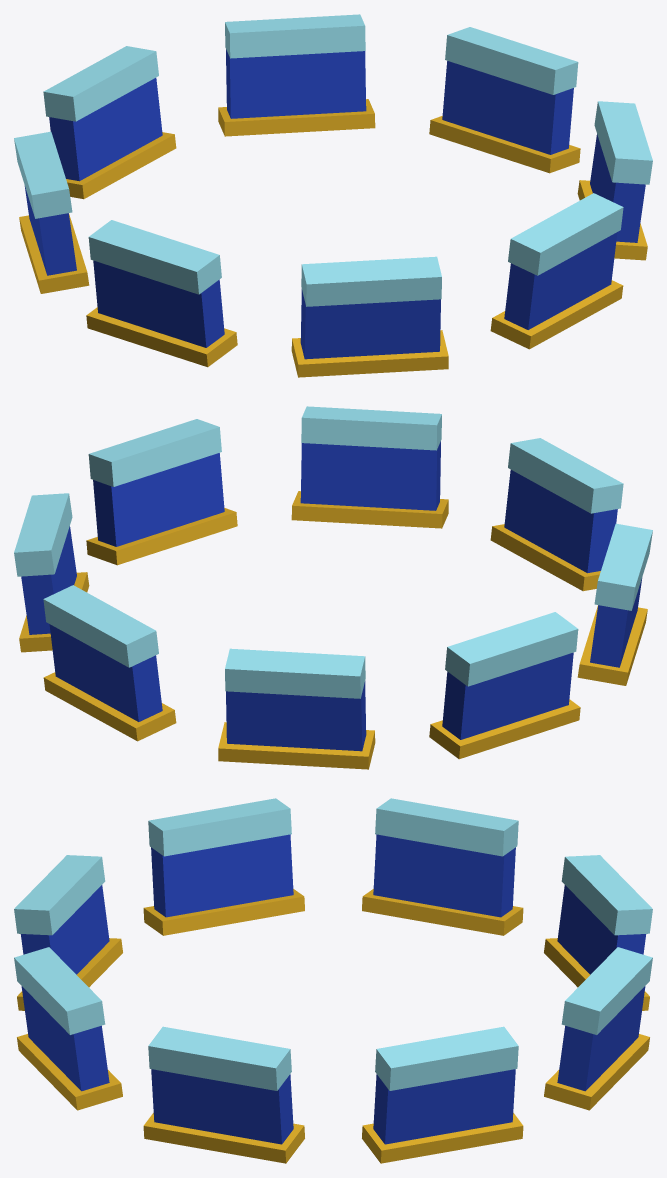
Rendered from fx_steadfast.glb.
3 views of the same model, one above another, from view 1: azimuth 30°, elevation 25°; view 2: azimuth 150°, elevation 25°; view 3: azimuth 270°, elevation 25° (orthographic).
Visible parts, largest first — view 1: steadfast_plate_4, steadfast_plate_8, steadfast_plate_3, steadfast_plate_7, steadfast_plate_5, steadfast_plate_1, steadfast_plate_6, steadfast_plate_2; view 2: steadfast_plate_1, steadfast_plate_5, steadfast_plate_2, steadfast_plate_6, steadfast_plate_8, steadfast_plate_4, steadfast_plate_7, steadfast_plate_3; view 3: steadfast_plate_6, steadfast_plate_7, steadfast_plate_2, steadfast_plate_3, steadfast_plate_1, steadfast_plate_4, steadfast_plate_5, steadfast_plate_8.
Boxes of the visible parts, x1,y1,x2,y2 form: steadfast_plate_4: [218, 14, 375, 136]; steadfast_plate_8: [291, 256, 448, 377]; steadfast_plate_3: [429, 27, 580, 173]; steadfast_plate_7: [86, 220, 237, 367]; steadfast_plate_5: [43, 46, 176, 199]; steadfast_plate_1: [490, 193, 623, 349]; steadfast_plate_6: [14, 131, 89, 293]; steadfast_plate_2: [577, 101, 652, 260]; steadfast_plate_1: [291, 406, 448, 528]; steadfast_plate_5: [218, 648, 375, 769]; steadfast_plate_2: [86, 419, 237, 565]; steadfast_plate_6: [429, 612, 580, 759]; steadfast_plate_8: [490, 438, 623, 591]; steadfast_plate_4: [43, 585, 176, 741]; steadfast_plate_7: [577, 523, 652, 685]; steadfast_plate_3: [14, 493, 89, 652]; steadfast_plate_6: [362, 798, 523, 935]; steadfast_plate_7: [143, 798, 304, 935]; steadfast_plate_2: [143, 1026, 304, 1163]; steadfast_plate_3: [362, 1026, 523, 1163]; steadfast_plate_1: [14, 947, 122, 1110]; steadfast_plate_4: [544, 947, 652, 1110]; steadfast_plate_5: [544, 855, 652, 1010]; steadfast_plate_8: [14, 855, 122, 1010].
Bounding box in the file's own units: 1.66 × 0.2925 × 1.66.
